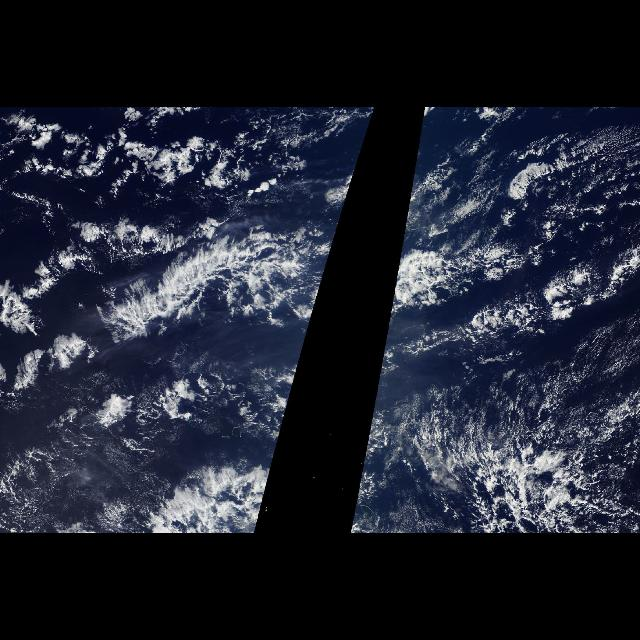Fish: (112, 222, 340, 348), (382, 222, 546, 348)
Gravel: (394, 361, 640, 534)
